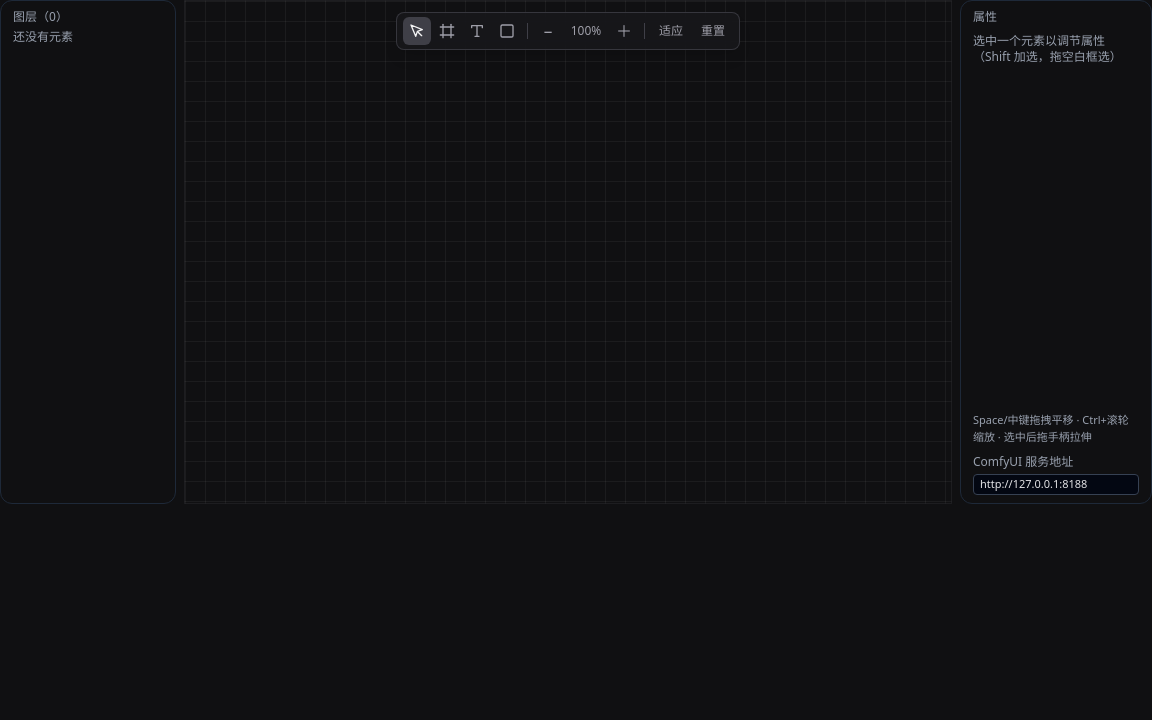
CanvasViewport 交互（jsdom） › 绘制工具下点击画布 → 新建节点并出现在图层面板
Click the button named "画框" at (447, 31), box [433,17,461,45]
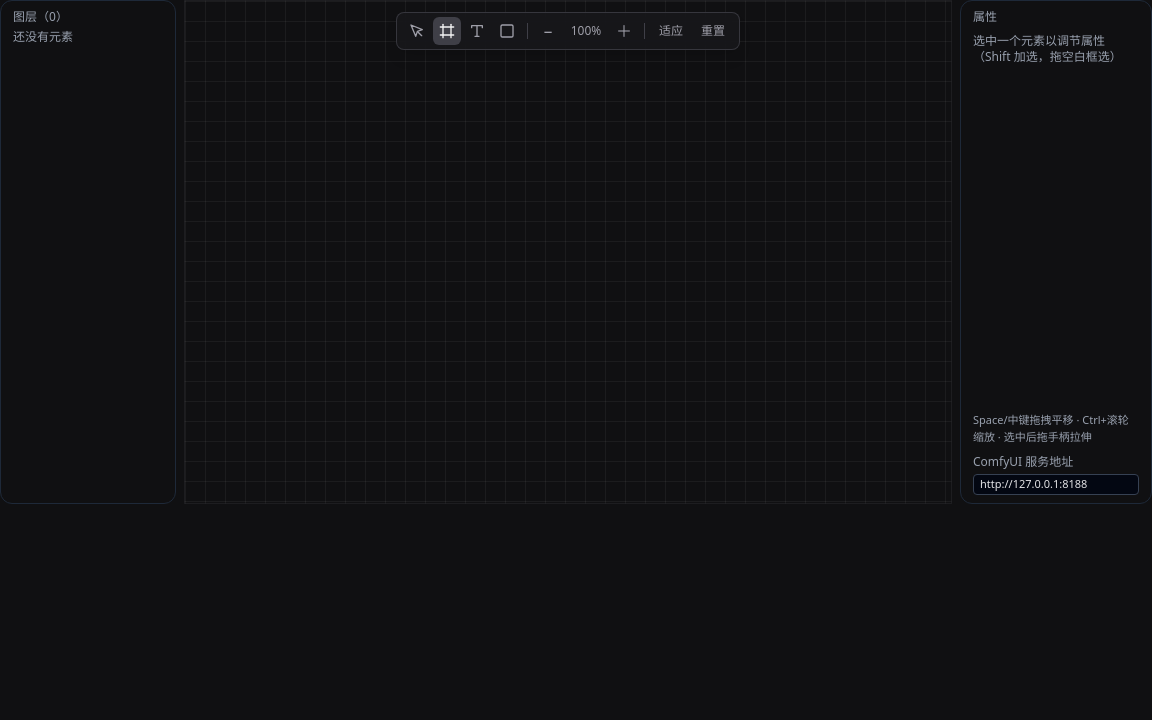
Press the mouse on the element named "无限画布" at (568, 252), box [184,0,952,504]
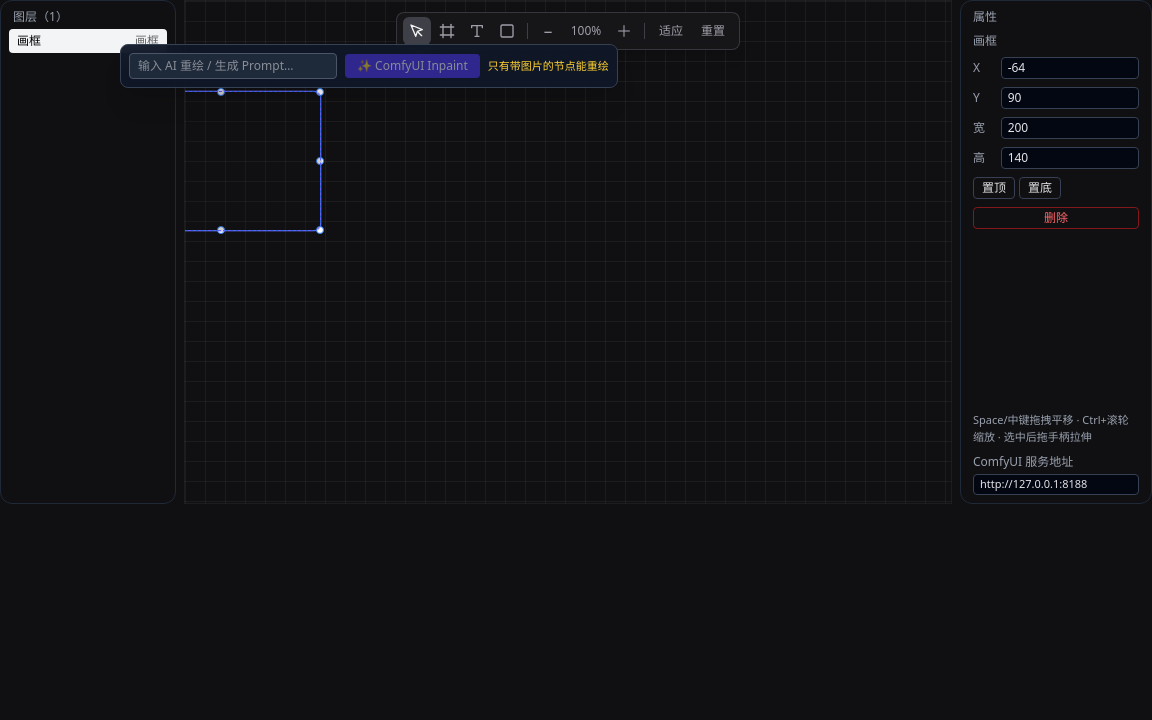
Expected: the text "图层（1）" is shown, [13,8,68,25]
